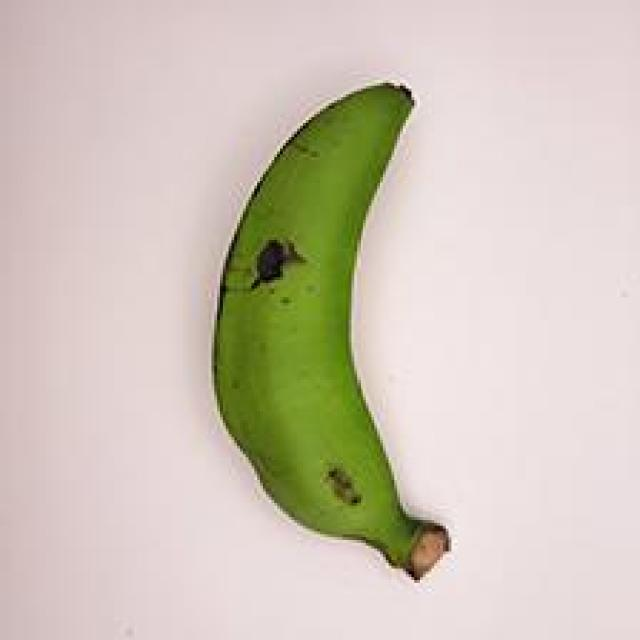Raw: (183, 52, 472, 606)
